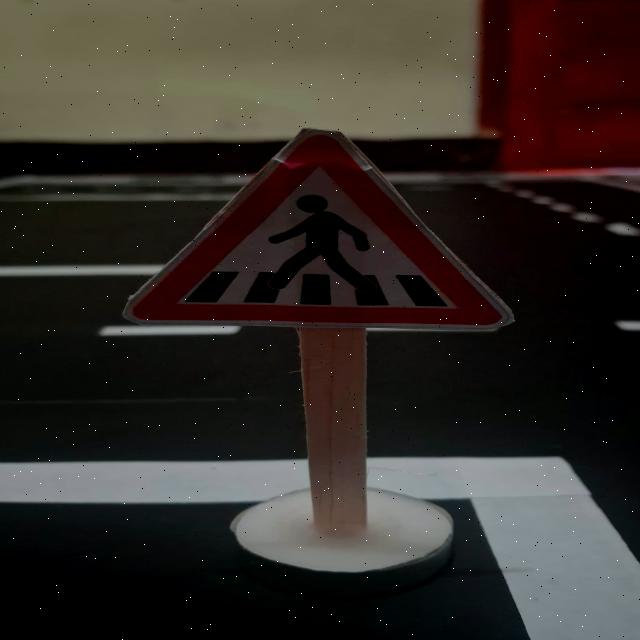Rambu Penyebrangan: (124, 130, 506, 323)
